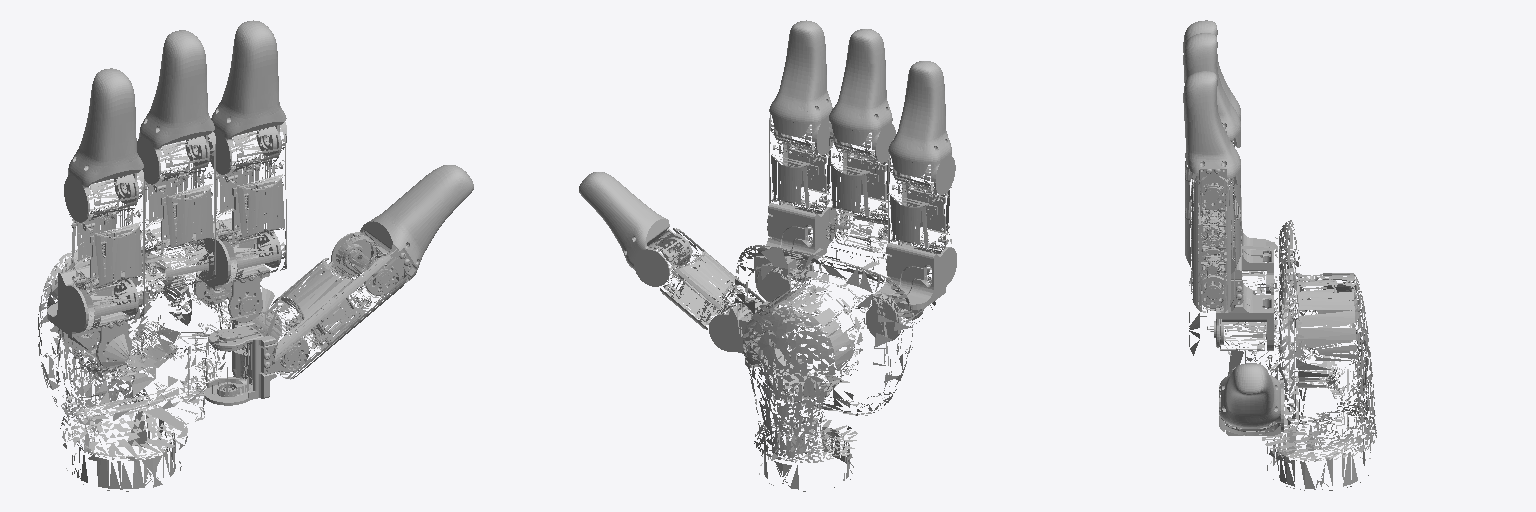
robot.urdf — SG100V3.0_R_URDF_3D:
<?xml version="1.0" encoding="utf-8"?>
<!-- This URDF was automatically created by SolidWorks to URDF Exporter! Originally created by Stephen Brawner (brawner@gmail.com) 
     Commit Version: 1.6.0-4-g7f85cfe  Build Version: 1.6.7995.38578
     For more information, please see http://wiki.ros.org/sw_urdf_exporter -->
<robot
  name="SG100V3.0_R_URDF_3D">
  <link
    name="base_link">
    <inertial>
      <origin
        xyz="-0.000414998999227815 -0.0181040369923601 0.0626697040146343"
        rpy="0 0 0" />
      <mass
        value="0.305725448065077" />
      <inertia
        ixx="0.000158989061418836"
        ixy="4.83957781671324E-06"
        ixz="-6.036396893673E-06"
        iyy="0.000244064793884569"
        iyz="9.63190531237913E-06"
        izz="0.00015976914173144" />
    </inertial>
    <visual>
      <origin
        xyz="0 0 0"
        rpy="0 0 0" />
      <geometry>
        <mesh
          filename="../meshes_mujoco/base_link.STL" />
      </geometry>
      <material
        name="">
        <color
          rgba="0.752941176470588 0.752941176470588 0.752941176470588 1" />
      </material>
    </visual>
    <collision>
      <origin
        xyz="0 0 0"
        rpy="0 0 0" />
      <geometry>
        <mesh
          filename="../meshes_mujoco/base_link.STL" />
      </geometry>
    </collision>
  </link>
  <link
    name="thumb_link1">
    <inertial>
      <origin
        xyz="0.0120771567691542 0.00239257435604567 0.0136728170349049"
        rpy="0 0 0" />
      <mass
        value="0.0113387523148287" />
      <inertia
        ixx="1.38862615461349E-06"
        ixy="-2.71441427419766E-07"
        ixz="-3.24833159401412E-07"
        iyy="1.25101658724764E-06"
        iyz="-1.63938335089224E-07"
        izz="1.21414905090188E-06" />
    </inertial>
    <visual>
      <origin
        xyz="0 0 0"
        rpy="0 0 0" />
      <geometry>
        <mesh
          filename="../meshes_mujoco/thumb_link1.STL" />
      </geometry>
      <material
        name="">
        <color
          rgba="0.752941176470588 0.752941176470588 0.752941176470588 1" />
      </material>
    </visual>
    <collision>
      <origin
        xyz="0 0 0"
        rpy="0 0 0" />
      <geometry>
        <mesh
          filename="../meshes_mujoco/thumb_link1.STL" />
      </geometry>
    </collision>
  </link>
  <joint
    name="thumb_j1"
    type="revolute">
    <origin
      xyz="0.0315000340876379 -0.03185808415747 0.03840000000004"
      rpy="0 0 0" />
    <parent
      link="base_link" />
    <child
      link="thumb_link1" />
    <axis
      xyz="0 0 -1" />
    <limit
      lower="0"
      upper="2.182"
      effort="0"
      velocity="0" />
  </joint>
  <link
    name="thumb_link2">
    <inertial>
      <origin
        xyz="0.0216506472257303 0.0124998854988972 0.014077934278322"
        rpy="0 0 0" />
      <mass
        value="0.0389602928500587" />
      <inertia
        ixx="3.4122140966438E-06"
        ixy="-1.28623546050382E-06"
        ixz="-2.2414128381453E-11"
        iyy="4.89742955560314E-06"
        iyz="3.88302934408901E-11"
        izz="4.96550383021464E-06" />
    </inertial>
    <visual>
      <origin
        xyz="0 0 0"
        rpy="0 0 0" />
      <geometry>
        <mesh
          filename="../meshes_mujoco/thumb_link2.STL" />
      </geometry>
      <material
        name="">
        <color
          rgba="0.752941176470588 0.752941176470588 0.752941176470588 1" />
      </material>
    </visual>
    <collision>
      <origin
        xyz="0 0 0"
        rpy="0 0 0" />
      <geometry>
        <mesh
          filename="../meshes_mujoco/thumb_link2.STL" />
      </geometry>
    </collision>
  </link>
  <joint
    name="thumb_j2"
    type="revolute">
    <origin
      xyz="0.024 0.0155 0.0176"
      rpy="1.5708 0 0" />
    <parent
      link="thumb_link1" />
    <child
      link="thumb_link2" />
    <axis
      xyz="0 0 1" />
    <limit
      lower="-2.61"
      upper="0"
      effort="0"
      velocity="0" />
  </joint>
  <link
    name="thumb_link3">
    <inertial>
      <origin
        xyz="0.0213380181820181 0.0152597778818099 0.0140520446761166"
        rpy="0 0 0" />
      <mass
        value="0.0391700355427288" />
      <inertia
        ixx="3.5414216454006E-06"
        ixy="-1.15344683729334E-06"
        ixz="-1.43832349993507E-07"
        iyy="3.8422075253618E-06"
        iyz="-5.46135022641842E-08"
        izz="4.60629028518077E-06" />
    </inertial>
    <visual>
      <origin
        xyz="0 0 0"
        rpy="0 0 0" />
      <geometry>
        <mesh
          filename="../meshes_mujoco/thumb_link3.STL" />
      </geometry>
      <material
        name="">
        <color
          rgba="0.752941176470588 0.752941176470588 0.752941176470588 1" />
      </material>
    </visual>
    <collision>
      <origin
        xyz="0 0 0"
        rpy="0 0 0" />
      <geometry>
        <mesh
          filename="../meshes_mujoco/thumb_link3.STL" />
      </geometry>
    </collision>
  </link>
  <joint
    name="thumb_j3"
    type="revolute">
    <origin
      xyz="0.0433012701892112 0.0249999999999943 0.000999999999999992"
      rpy="0 0 0" />
    <parent
      link="thumb_link2" />
    <child
      link="thumb_link3" />
    <axis
      xyz="0 0 1" />
    <limit
      lower="-1.048"
      upper="1.57"
      effort="0"
      velocity="0" />
  </joint>
  <link
    name="index_link1">
    <inertial>
      <origin
        xyz="-0.00192286221915933 0.0160765720339984 0.0160014379359226"
        rpy="0 0 0" />
      <mass
        value="0.0164783133065153" />
      <inertia
        ixx="2.35967191348968E-06"
        ixy="2.52056066969685E-07"
        ixz="3.85455394773503E-07"
        iyy="1.92772778704174E-06"
        iyz="-6.21965134880054E-07"
        izz="2.38513082903791E-06" />
    </inertial>
    <visual>
      <origin
        xyz="0 0 0"
        rpy="0 0 0" />
      <geometry>
        <mesh
          filename="../meshes_mujoco/index_link1.STL" />
      </geometry>
      <material
        name="">
        <color
          rgba="0.752941176470588 0.752941176470588 0.752941176470588 1" />
      </material>
    </visual>
    <collision>
      <origin
        xyz="0 0 0"
        rpy="0 0 0" />
      <geometry>
        <mesh
          filename="../meshes_mujoco/index_link1.STL" />
      </geometry>
    </collision>
  </link>
  <joint
    name="index_j1"
    type="revolute">
    <origin
      xyz="0.0315 -0.020758 0.086"
      rpy="1.5708 0 0" />
    <parent
      link="base_link" />
    <child
      link="index_link1" />
    <axis
      xyz="0 0 -1" />
    <limit
      lower="0"
      upper="1.57"
      effort="0"
      velocity="0" />
  </joint>
  <link
    name="index_link2">
    <inertial>
      <origin
        xyz="1.07914988715929E-07 0.0249999506725764 0.0140779443986546"
        rpy="0 0 0" />
      <mass
        value="0.0389603085020688" />
      <inertia
        ixx="5.64004176550247E-06"
        ixy="6.36188568841575E-13"
        ixz="-4.52896024925001E-11"
        iyy="2.66959788800775E-06"
        iyz="2.78258538701048E-13"
        izz="4.96551193105007E-06" />
    </inertial>
    <visual>
      <origin
        xyz="0 0 0"
        rpy="0 0 0" />
      <geometry>
        <mesh
          filename="../meshes_mujoco/index_link2.STL" />
      </geometry>
      <material
        name="">
        <color
          rgba="0.752941176470588 0.752941176470588 0.752941176470588 1" />
      </material>
    </visual>
    <collision>
      <origin
        xyz="0 0 0"
        rpy="0 0 0" />
      <geometry>
        <mesh
          filename="../meshes_mujoco/index_link2.STL" />
      </geometry>
    </collision>
  </link>
  <joint
    name="index_j2"
    type="revolute">
    <origin
      xyz="-0.0155 0.024 0.0281"
      rpy="0 1.5707963267949 0" />
    <parent
      link="index_link1" />
    <child
      link="index_link2" />
    <axis
      xyz="0 0 1" />
    <limit
      lower="0"
      upper="2.18"
      effort="0"
      velocity="0" />
  </joint>
  <link
    name="index_link3">
    <inertial>
      <origin
        xyz="-0.00254631665879401 0.0261091312977331 0.0140520312199692"
        rpy="0 0 0" />
      <mass
        value="0.039169569670025" />
      <inertia
        ixx="4.76582704993042E-06"
        ixy="4.46451285037219E-07"
        ixz="-2.46133875754294E-08"
        iyy="2.61766787253799E-06"
        iyz="-1.51850712404017E-07"
        izz="4.60618440130241E-06" />
    </inertial>
    <visual>
      <origin
        xyz="0 0 0"
        rpy="0 0 0" />
      <geometry>
        <mesh
          filename="../meshes_mujoco/index_link3.STL" />
      </geometry>
      <material
        name="">
        <color
          rgba="0.752941176470588 0.752941176470588 0.752941176470588 1" />
      </material>
    </visual>
    <collision>
      <origin
        xyz="0 0 0"
        rpy="0 0 0" />
      <geometry>
        <mesh
          filename="../meshes_mujoco/index_link3.STL" />
      </geometry>
    </collision>
  </link>
  <joint
    name="index_j3"
    type="revolute">
    <origin
      xyz="0 0.0499999999999879 0.00100000000000001"
      rpy="0 0 0" />
    <parent
      link="index_link2" />
    <child
      link="index_link3" />
    <axis
      xyz="0 0 1" />
    <limit
      lower="-1.05"
      upper="1.57"
      effort="0"
      velocity="0" />
  </joint>
  <link
    name="middle_link1">
    <inertial>
      <origin
        xyz="1.08016284257328E-07 0.0249999507772835 0.0140779451716232"
        rpy="0 0 0" />
      <mass
        value="0.0389603089069081" />
      <inertia
        ixx="5.6400419900532E-06"
        ixy="5.715810172083E-13"
        ixz="-4.54210053987226E-11"
        iyy="2.6695980694843E-06"
        iyz="1.34396033706801E-13"
        izz="4.96551183479354E-06" />
    </inertial>
    <visual>
      <origin
        xyz="0 0 0"
        rpy="0 0 0" />
      <geometry>
        <mesh
          filename="../meshes_mujoco/middle_link1.STL" />
      </geometry>
      <material
        name="">
        <color
          rgba="0.752941176470588 0.752941176470588 0.752941176470588 1" />
      </material>
    </visual>
    <collision>
      <origin
        xyz="0 0 0"
        rpy="0 0 0" />
      <geometry>
        <mesh
          filename="../meshes_mujoco/middle_link1.STL" />
      </geometry>
    </collision>
  </link>
  <joint
    name="middle_j1"
    type="revolute">
    <origin
      xyz="-0.018 -0.048858 0.1135"
      rpy="1.5708 0 1.5708" />
    <parent
      link="base_link" />
    <child
      link="middle_link1" />
    <axis
      xyz="0 0 -1" />
    <limit
      lower="-2.18"
      upper="0"
      effort="0"
      velocity="0" />
  </joint>
  <link
    name="middle_link2">
    <inertial>
      <origin
        xyz="-0.0025463161373562 0.0261091299053668 0.0140520318441871"
        rpy="0 0 0" />
      <mass
        value="0.0391695723626892" />
      <inertia
        ixx="4.76582741173177E-06"
        ixy="4.46451321193341E-07"
        ixz="-2.46135080206815E-08"
        iyy="2.61766824883249E-06"
        iyz="-1.51850592956514E-07"
        izz="4.60618446893163E-06" />
    </inertial>
    <visual>
      <origin
        xyz="0 0 0"
        rpy="0 0 0" />
      <geometry>
        <mesh
          filename="../meshes_mujoco/middle_link2.STL" />
      </geometry>
      <material
        name="">
        <color
          rgba="0.752941176470588 0.752941176470588 0.752941176470588 1" />
      </material>
    </visual>
    <collision>
      <origin
        xyz="0 0 0"
        rpy="0 0 0" />
      <geometry>
        <mesh
          filename="../meshes_mujoco/middle_link2.STL" />
      </geometry>
    </collision>
  </link>
  <joint
    name="middle_j2"
    type="revolute">
    <origin
      xyz="0 0.0499999999999879 0.000999999999999997"
      rpy="0 0 0" />
    <parent
      link="middle_link1" />
    <child
      link="middle_link2" />
    <axis
      xyz="0 0 1" />
    <limit
      lower="-1.05"
      upper="1.57"
      effort="0"
      velocity="0" />
  </joint>
  <link
    name="little_link1">
    <inertial>
      <origin
        xyz="-0.00664760756016337 0.0164128377639005 0.0160729276430044"
        rpy="0 0 0" />
      <mass
        value="0.0161726264481223" />
      <inertia
        ixx="2.26646362279032E-06"
        ixy="2.99853956385536E-07"
        ixz="4.03188674419406E-07"
        iyy="1.93121676353436E-06"
        iyz="-5.88441289117256E-07"
        izz="2.35726576008919E-06" />
    </inertial>
    <visual>
      <origin
        xyz="0 0 0"
        rpy="0 0 0" />
      <geometry>
        <mesh
          filename="../meshes_mujoco/little_link1.STL" />
      </geometry>
      <material
        name="">
        <color
          rgba="0.752941176470588 0.752941176470588 0.752941176470588 1" />
      </material>
    </visual>
    <collision>
      <origin
        xyz="0 0 0"
        rpy="0 0 0" />
      <geometry>
        <mesh
          filename="../meshes_mujoco/little_link1.STL" />
      </geometry>
    </collision>
  </link>
  <joint
    name="little_j1"
    type="revolute">
    <origin
      xyz="-0.0314999659123509 -0.0207580841574733 0.0800000000000397"
      rpy="1.5707963267949 0 0" />
    <parent
      link="base_link" />
    <child
      link="little_link1" />
    <axis
      xyz="0 0 -1" />
    <limit
      lower="-3.14"
      upper="0"
      effort="0"
      velocity="0" />
  </joint>
  <link
    name="little_llink2">
    <inertial>
      <origin
        xyz="1.0801628431284E-07 0.0249999507772834 0.0140779451716232"
        rpy="0 0 0" />
      <mass
        value="0.0389603089069083" />
      <inertia
        ixx="5.64004199005323E-06"
        ixy="5.71581023652563E-13"
        ixz="-4.54210053987317E-11"
        iyy="2.66959806948432E-06"
        iyz="1.3439603890535E-13"
        izz="4.96551183479357E-06" />
    </inertial>
    <visual>
      <origin
        xyz="0 0 0"
        rpy="0 0 0" />
      <geometry>
        <mesh
          filename="../meshes_mujoco/little_llink2.STL" />
      </geometry>
      <material
        name="">
        <color
          rgba="0.752941176470588 0.752941176470588 0.752941176470588 1" />
      </material>
    </visual>
    <collision>
      <origin
        xyz="0 0 0"
        rpy="0 0 0" />
      <geometry>
        <mesh
          filename="../meshes_mujoco/little_llink2.STL" />
      </geometry>
    </collision>
  </link>
  <joint
    name="little_j2"
    type="revolute">
    <origin
      xyz="-0.0205 0.024 0.0281"
      rpy="0 1.5707963267949 0" />
    <parent
      link="little_link1" />
    <child
      link="little_llink2" />
    <axis
      xyz="0 0 1" />
    <limit
      lower="0"
      upper="2.18"
      effort="0"
      velocity="0" />
  </joint>
  <link
    name="little_linik3">
    <inertial>
      <origin
        xyz="-0.00254631589504758 0.026109129459078 0.0140520316215023"
        rpy="0 0 0" />
      <mass
        value="0.0391695736569134" />
      <inertia
        ixx="4.76582749290851E-06"
        ixy="4.46451343500283E-07"
        ixz="-2.46134678050998E-08"
        iyy="2.61766834105641E-06"
        iyz="-1.51850616101759E-07"
        izz="4.60618453244484E-06" />
    </inertial>
    <visual>
      <origin
        xyz="0 0 0"
        rpy="0 0 0" />
      <geometry>
        <mesh
          filename="../meshes_mujoco/little_linik3.STL" />
      </geometry>
      <material
        name="">
        <color
          rgba="0.752941176470588 0.752941176470588 0.752941176470588 1" />
      </material>
    </visual>
    <collision>
      <origin
        xyz="0 0 0"
        rpy="0 0 0" />
      <geometry>
        <mesh
          filename="../meshes_mujoco/little_linik3.STL" />
      </geometry>
    </collision>
  </link>
  <joint
    name="little_j3"
    type="revolute">
    <origin
      xyz="0 0.0499999999999879 0.00099999999999998"
      rpy="0 0 0" />
    <parent
      link="little_llink2" />
    <child
      link="little_linik3" />
    <axis
      xyz="0 0 1" />
    <limit
      lower="-1.05"
      upper="1.57"
      effort="0"
      velocity="0" />
  </joint>
</robot>

--- Render facts (derived) ---
3 views of the same robot in one strip: view 1: azimuth 30°, elevation 25°; view 2: azimuth 150°, elevation 25°; view 3: azimuth 270°, elevation 25° (orthographic).
Robot: SG100V3.0_R_URDF_3D — 12 links, 11 joints (11 revolute); root link base_link; default pose: all joints at 0.
Links seen in each view (by area): view 1: base_link, thumb_link3, thumb_link2, little_linik3, middle_link2, middle_link1, index_link3, little_llink2, index_link2, thumb_link1, little_link1, index_link1; view 2: base_link, little_linik3, middle_link2, index_link3, thumb_link3, little_link1, middle_link1, thumb_link2, index_link1, little_llink2, index_link2, thumb_link1; view 3: base_link, index_link3, index_link1, thumb_link3, index_link2, middle_link2, little_link1, middle_link1, little_linik3.
Boxes of the visible links, box(x1,y1,x2,y2) form: base_link: box(38, 218, 277, 491); thumb_link3: box(331, 165, 473, 295); thumb_link2: box(248, 235, 407, 379); little_linik3: box(64, 68, 143, 222); middle_link2: box(137, 30, 214, 184); middle_link1: box(140, 132, 215, 292); index_link3: box(208, 20, 286, 174); little_llink2: box(68, 170, 144, 330); index_link2: box(211, 122, 286, 282); thumb_link1: box(204, 309, 308, 405); little_link1: box(47, 267, 138, 367); index_link1: box(194, 219, 281, 322); base_link: box(735, 211, 935, 491); little_linik3: box(888, 61, 955, 194); middle_link2: box(829, 29, 895, 162); index_link3: box(769, 20, 833, 154); thumb_link3: box(579, 172, 691, 286); little_link1: box(866, 242, 956, 341); middle_link1: box(829, 121, 890, 252); thumb_link2: box(648, 228, 764, 334); index_link1: box(754, 202, 837, 303); little_llink2: box(888, 154, 951, 283); index_link2: box(769, 114, 832, 243); thumb_link1: box(709, 298, 801, 369); base_link: box(1189, 220, 1376, 490); index_link3: box(1183, 71, 1240, 209); index_link1: box(1191, 246, 1273, 350); thumb_link3: box(1219, 363, 1280, 428); index_link2: box(1185, 173, 1240, 312); middle_link2: box(1183, 33, 1240, 147); little_link1: box(1191, 196, 1273, 294); middle_link1: box(1185, 139, 1240, 253); little_linik3: box(1183, 20, 1240, 120).
Bounding box of the posed robot: 0.1993 × 0.0891 × 0.22 m (x, y, z).
12 mesh visuals loaded from 12 distinct referenced files (12 binary STL).
